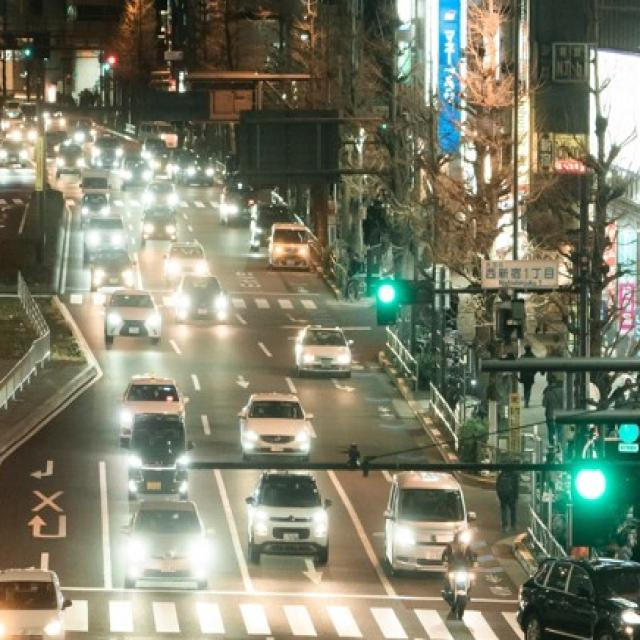car: (516, 554, 640, 640), (385, 470, 467, 578), (246, 468, 332, 567), (121, 499, 211, 587), (126, 412, 189, 498), (0, 565, 69, 640), (238, 392, 310, 456), (122, 374, 188, 442), (294, 322, 353, 378), (104, 290, 160, 344), (173, 276, 227, 322), (268, 222, 312, 273), (83, 215, 128, 261), (163, 241, 207, 284), (250, 204, 289, 252), (91, 250, 134, 290), (141, 208, 178, 247), (220, 188, 256, 224), (119, 156, 152, 190), (182, 156, 214, 188), (56, 144, 85, 177), (143, 181, 176, 209), (91, 137, 121, 167), (80, 193, 109, 221), (0, 139, 26, 164)
motorbike: (443, 527, 477, 617)
